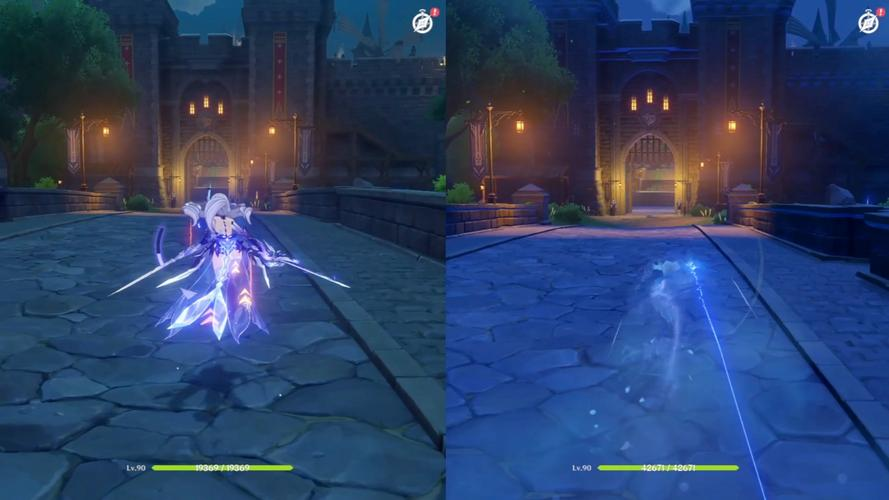夜兰: (628, 249, 719, 408)
